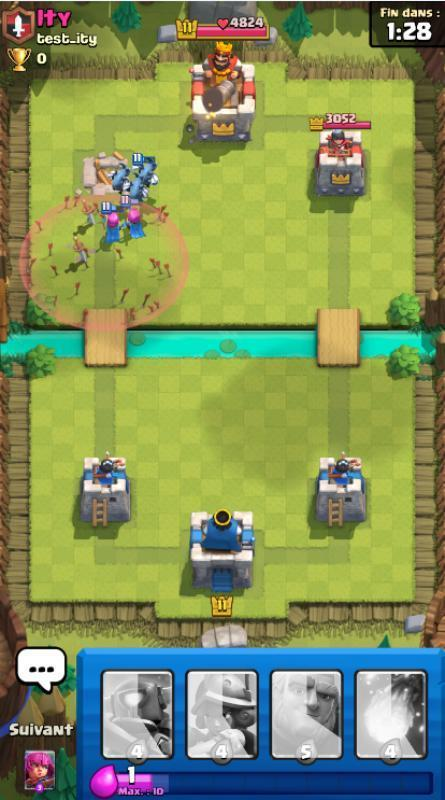enemy_arrows: (9, 178, 195, 339)
player_archers: (95, 202, 123, 245), (121, 199, 150, 240)
player_minions: (129, 152, 160, 194), (107, 158, 134, 193)
